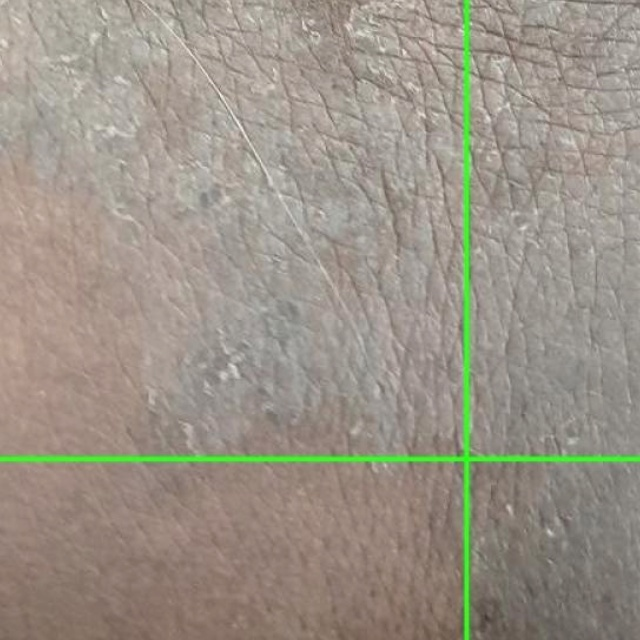Eczema: (0, 0, 466, 639), (0, 0, 639, 458)
